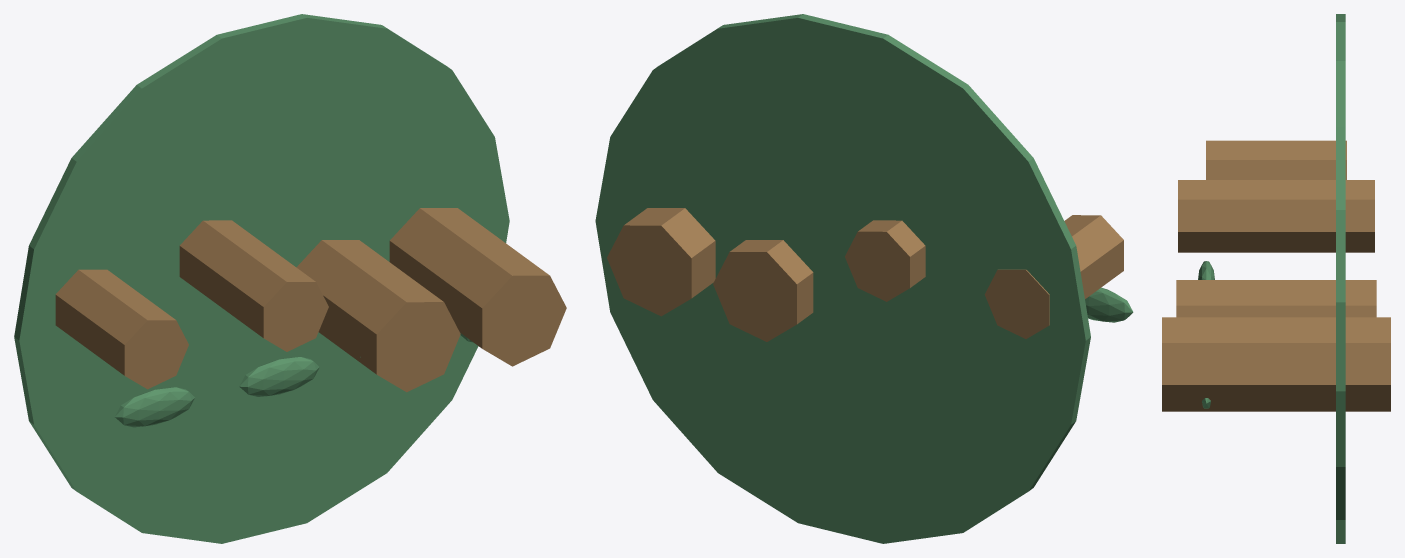
The model's file is 03_ambient_object_cluster.glb.
3 renders of one model, left to right at view 1: azimuth 30°, elevation 25°; view 2: azimuth 150°, elevation 25°; view 3: azimuth 270°, elevation 25°, orthographic. The views are drawn at different scales.
Visible parts, largest first — view 1: scatter_base, root_stump_3, root_stump_2, root_stump_1, root_stump_0, moss_0, moss_1; view 2: scatter_base, root_stump_3, root_stump_2, root_stump_0, root_stump_1, moss_0; view 3: root_stump_3, root_stump_1, root_stump_2, scatter_base, root_stump_0.
Part boxes in pixels (x1,y1,x2,y2): scatter_base: (14,14,509,543); root_stump_3: (389,208,566,366); root_stump_2: (296,240,460,392); root_stump_1: (179,220,328,351); root_stump_0: (55,269,188,389); moss_0: (115,387,194,427); moss_1: (239,357,319,396); scatter_base: (595,14,1090,543); root_stump_3: (607,208,715,316); root_stump_2: (713,240,813,341); root_stump_0: (984,215,1123,338); root_stump_1: (845,220,925,301); moss_0: (1085,287,1133,322); root_stump_3: (1162,317,1390,411); root_stump_1: (1178,180,1374,252); root_stump_2: (1176,280,1376,317); scatter_base: (1336,14,1345,543); root_stump_0: (1206,140,1346,179).
Bounding box in the file's own units: 1.9 × 1.87 × 0.8171.
